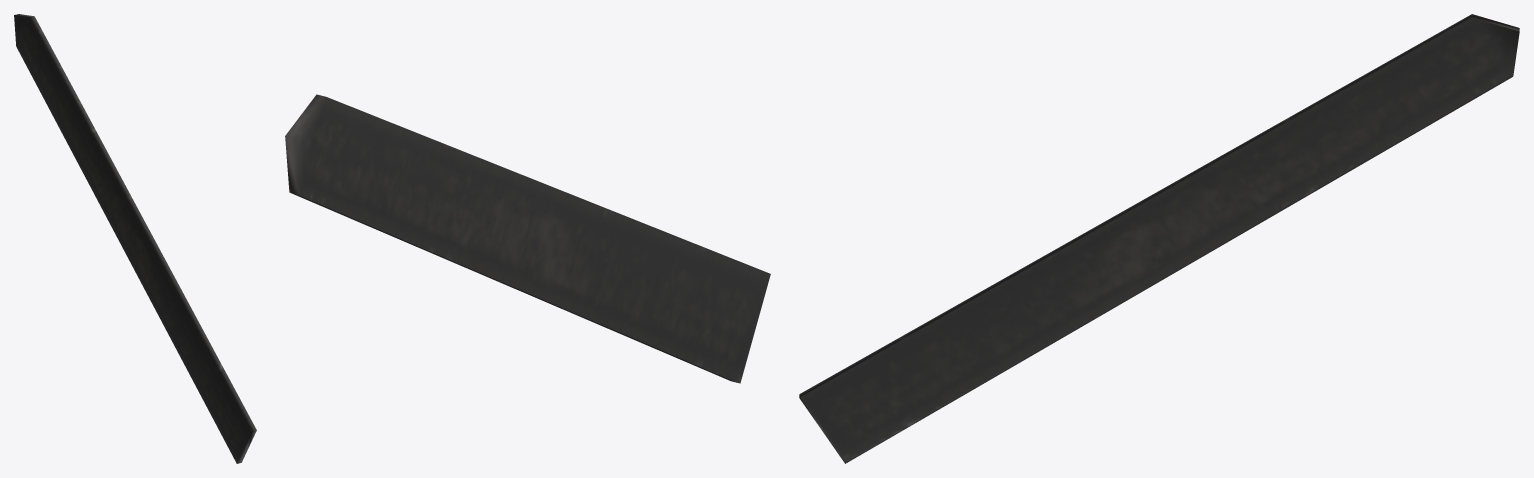
Rendered from SM_Clock_01c.fbx.
3 views of the same model, side by side, from view 1: azimuth 30°, elevation 25°; view 2: azimuth 150°, elevation 25°; view 3: azimuth 270°, elevation 25° (orthographic). The views are drawn at different scales.
Visible parts, largest first — view 1: SM_Clock_01c_LOD0; view 2: SM_Clock_01c_LOD0; view 3: SM_Clock_01c_LOD0.
Part boxes in pixels (box(x1,y1,x2,y2)): SM_Clock_01c_LOD0: box(14, 14, 256, 463); SM_Clock_01c_LOD0: box(285, 94, 770, 383); SM_Clock_01c_LOD0: box(799, 14, 1519, 463).
Bounding box in the file's own units: 0.1175 × 10.02 × 6.85.
